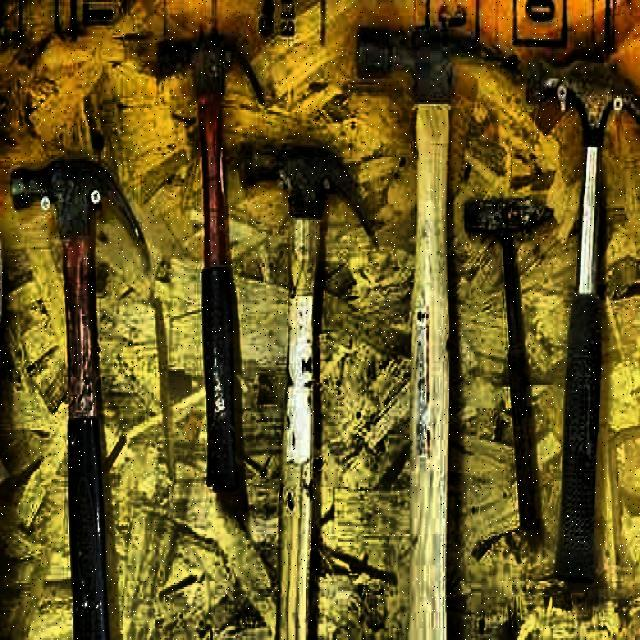hammer: (357, 19, 514, 640), (238, 134, 373, 640), (11, 156, 145, 640), (530, 49, 640, 585), (154, 31, 263, 493), (465, 192, 555, 532)
